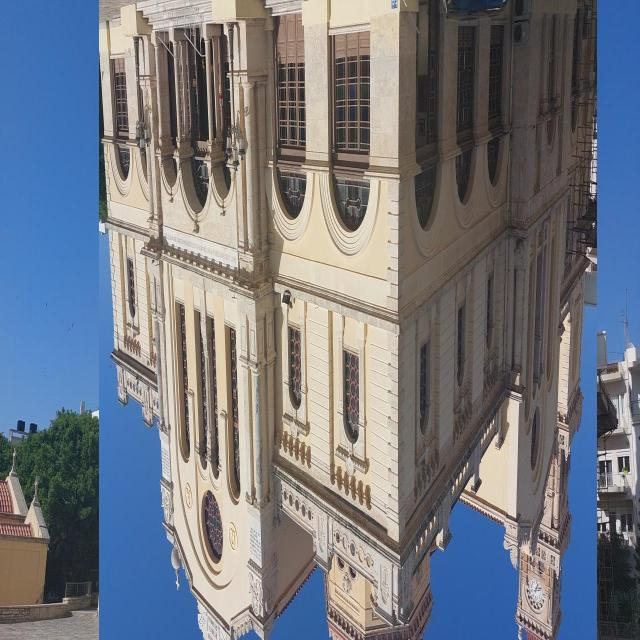Agios Minas: (101, 1, 599, 640)
